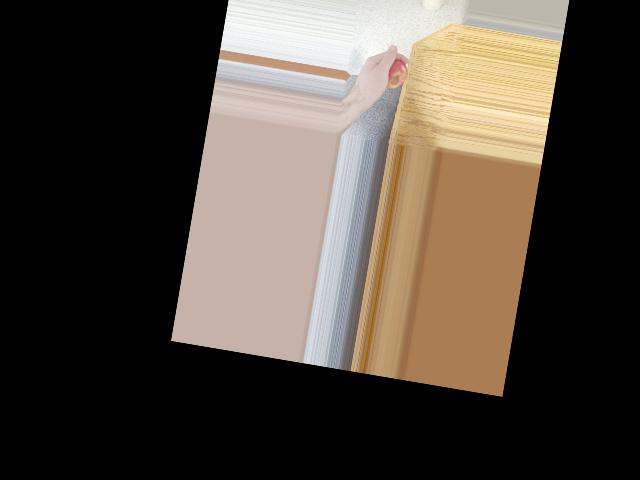apple: (375, 55, 411, 93)
